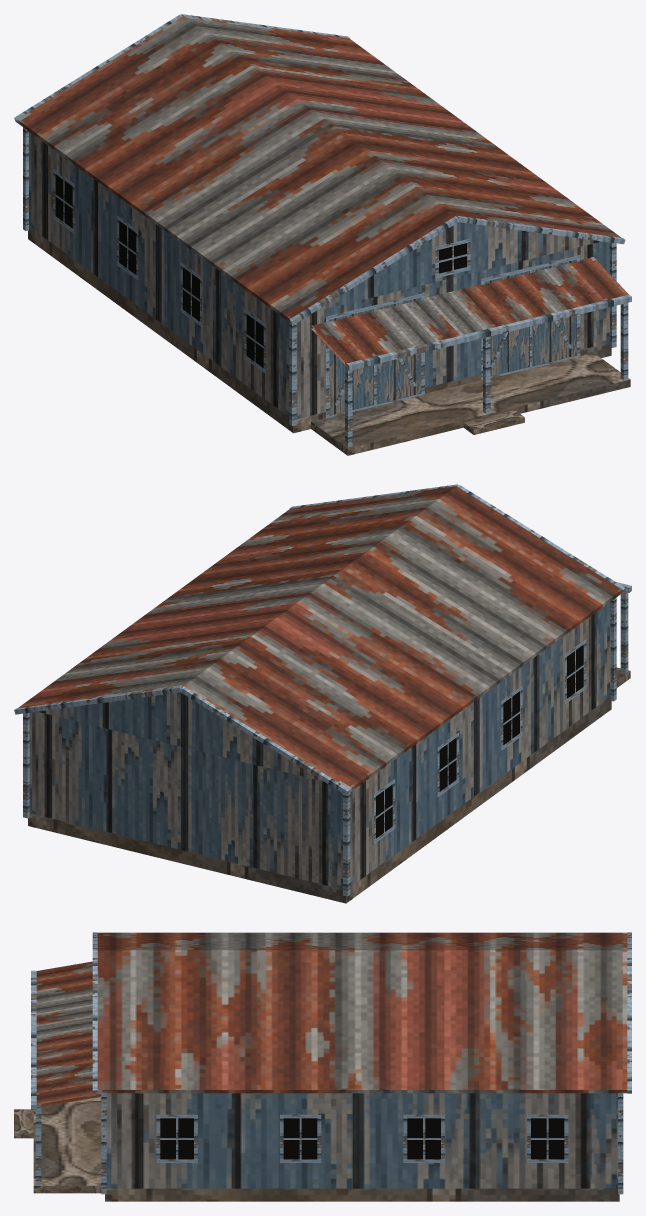
The model's file is Rimessa_02_Rurale_Azzurro.obj.
3 renders of one model, top to bottom at view 1: azimuth 30°, elevation 25°; view 2: azimuth 150°, elevation 25°; view 3: azimuth 270°, elevation 25°, orthographic. The views are drawn at different scales.
Parts seen in each view (by area): view 1: Rimessa_02_Rurale_Azzurro; view 2: Rimessa_02_Rurale_Azzurro; view 3: Rimessa_02_Rurale_Azzurro.
Part boxes in pixels (x1,y1,x2,y2): Rimessa_02_Rurale_Azzurro: [14, 14, 631, 455]; Rimessa_02_Rurale_Azzurro: [14, 484, 631, 903]; Rimessa_02_Rurale_Azzurro: [14, 932, 631, 1201].
Bounding box in the file's own units: 9.44 × 4.91 × 15.61.
